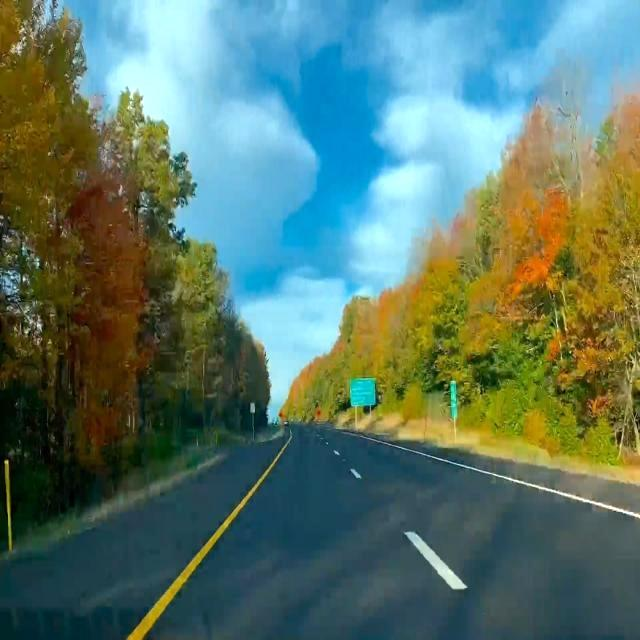road: (147, 426, 639, 639), (0, 438, 283, 639)
